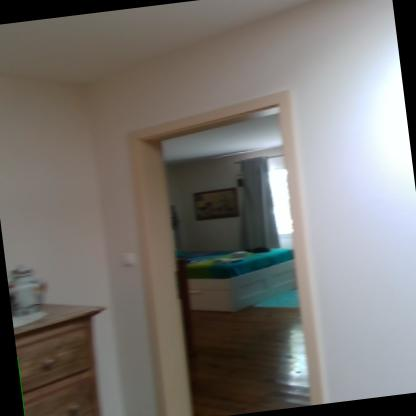open: (106, 75, 338, 415)
